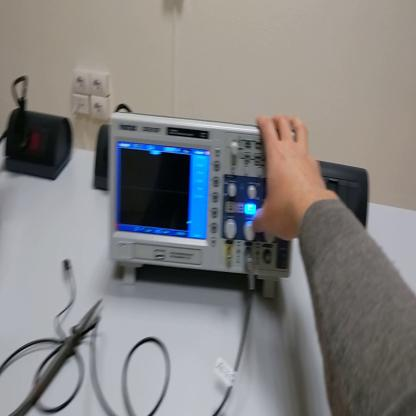hand: (250, 111, 327, 243)
oscilloscope: (115, 110, 307, 300)
oscilloscope probe tip: (10, 300, 105, 416)
socket: (5, 108, 76, 182), (94, 126, 109, 195)
